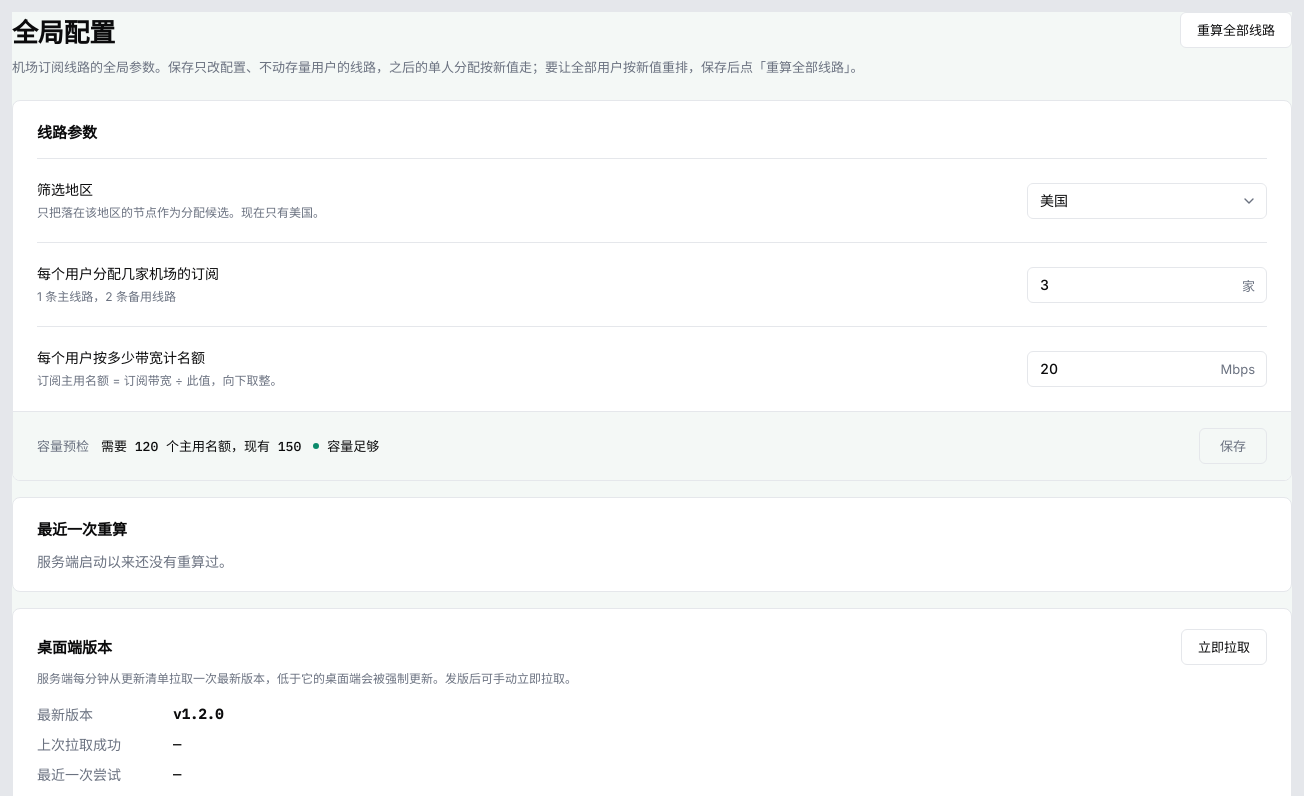
SettingsView › 有改动时出现「还原」，点了表单回到已保存的值、重算按钮恢复可点
Replace the text in the number field with id "setting-bandwidth" with "30" at (1147, 369), box [1027,351,1267,387]
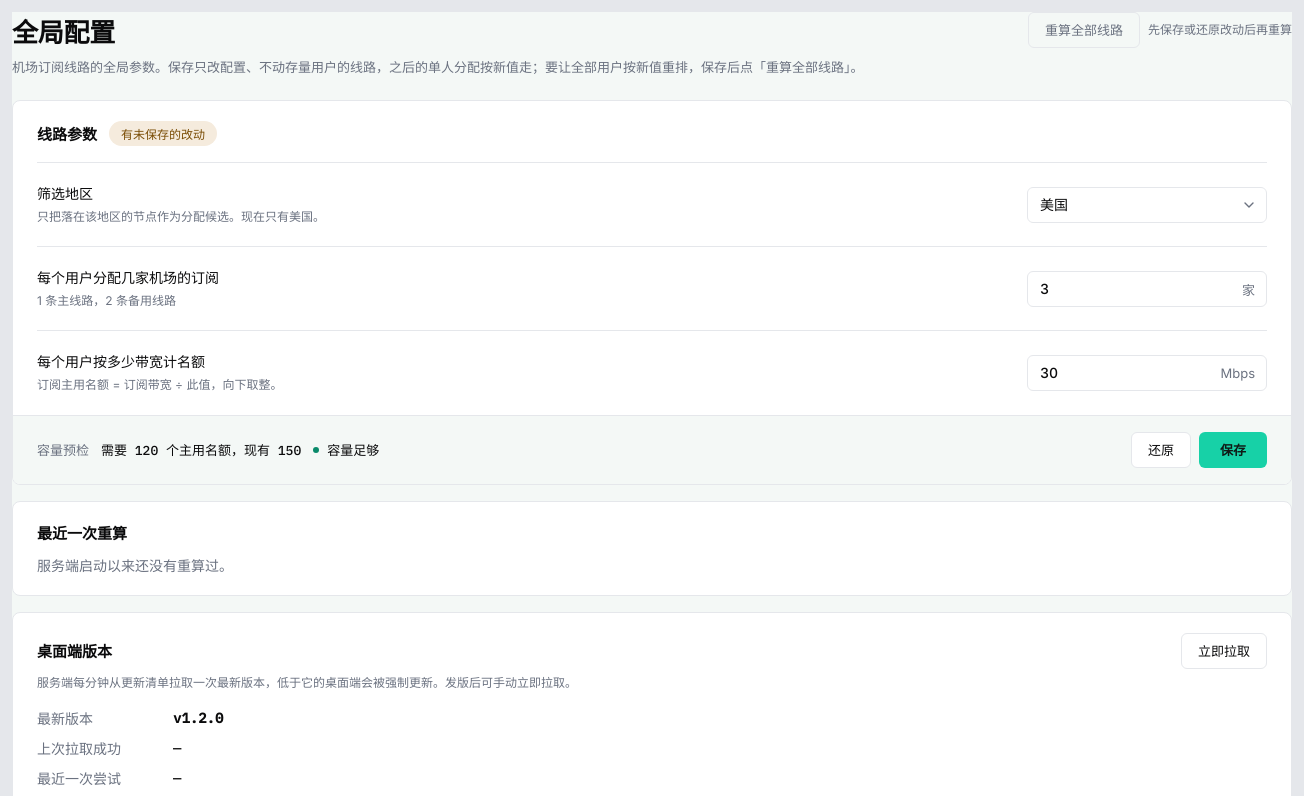
Click the button with class "revert" at (1161, 450), box [1131,432,1191,468]
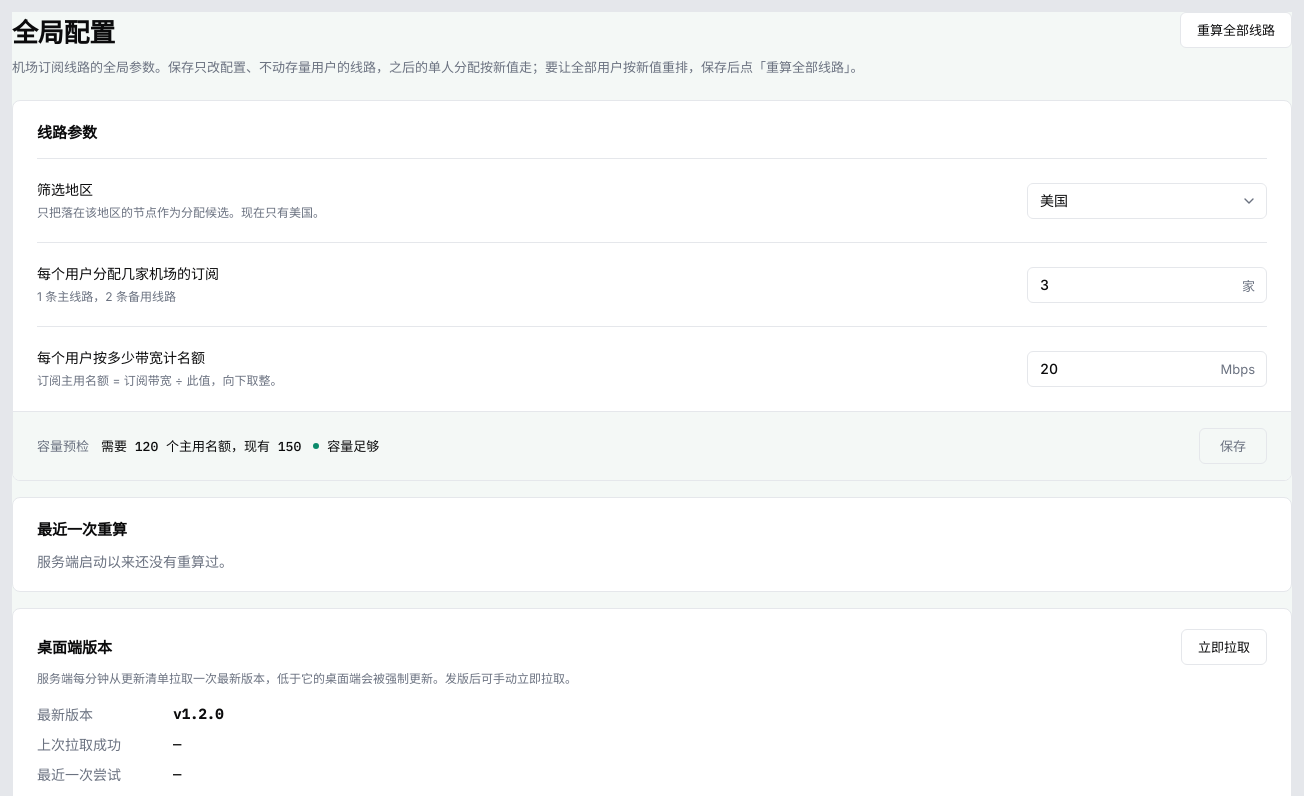
Check: the number field with id "setting-bandwidth" holds "20", box [1027,351,1267,387]
Check: the button with class "rebuild" is enabled, box [1180,12,1292,48]
